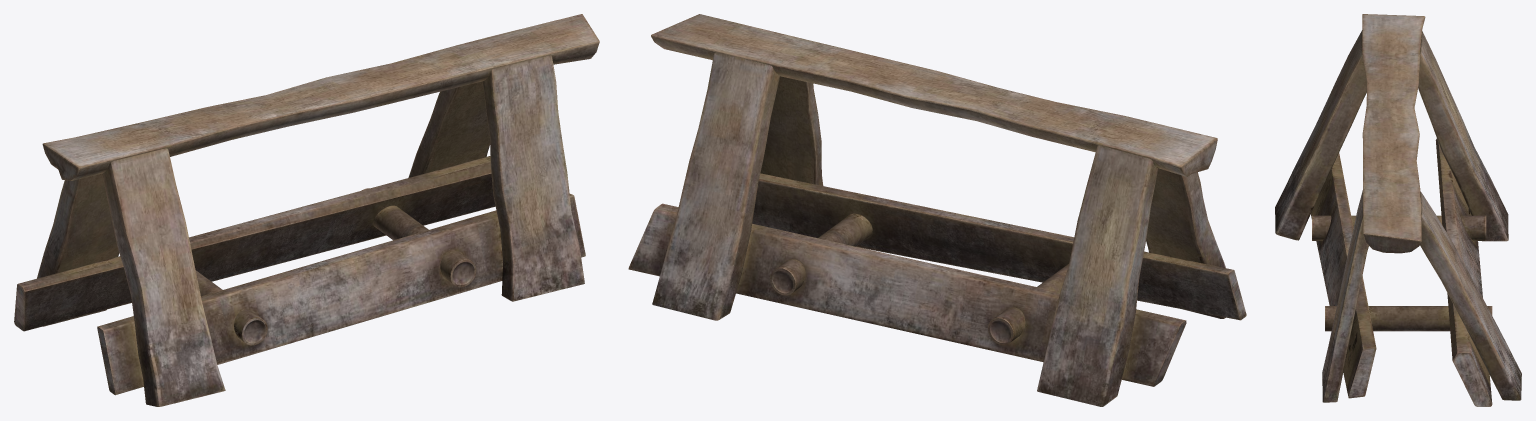
The model's file is xi_osm_table.gltf.
3 views of the same model, side by side, from view 1: azimuth 30°, elevation 25°; view 2: azimuth 150°, elevation 25°; view 3: azimuth 270°, elevation 25° (orthographic). The views are drawn at different scales.
Visible parts, largest first — view 1: xi_osm_table; view 2: xi_osm_table; view 3: xi_osm_table.
Part boxes in pixels (bbox=[...]): xi_osm_table: bbox=[14, 14, 599, 406]; xi_osm_table: bbox=[628, 14, 1246, 406]; xi_osm_table: bbox=[1275, 14, 1521, 406].
Size of the model in its own units: 1.24 by 0.4681 by 0.5616.
1 material, 1 textured.
